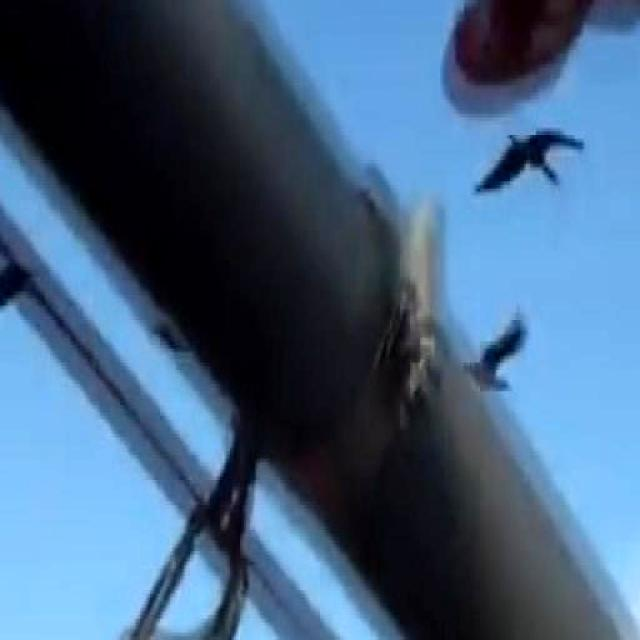airplane: (470, 105, 591, 209)
